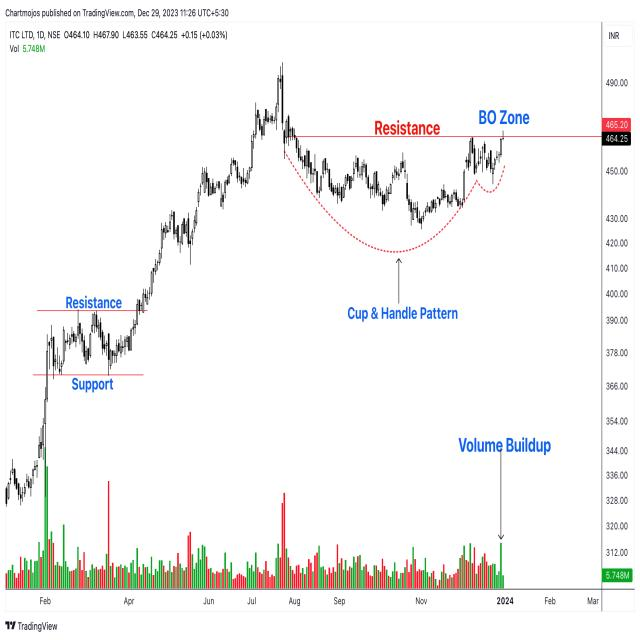Cup-and-handle: (273, 125, 516, 238)
rectangle: (38, 311, 138, 376)
